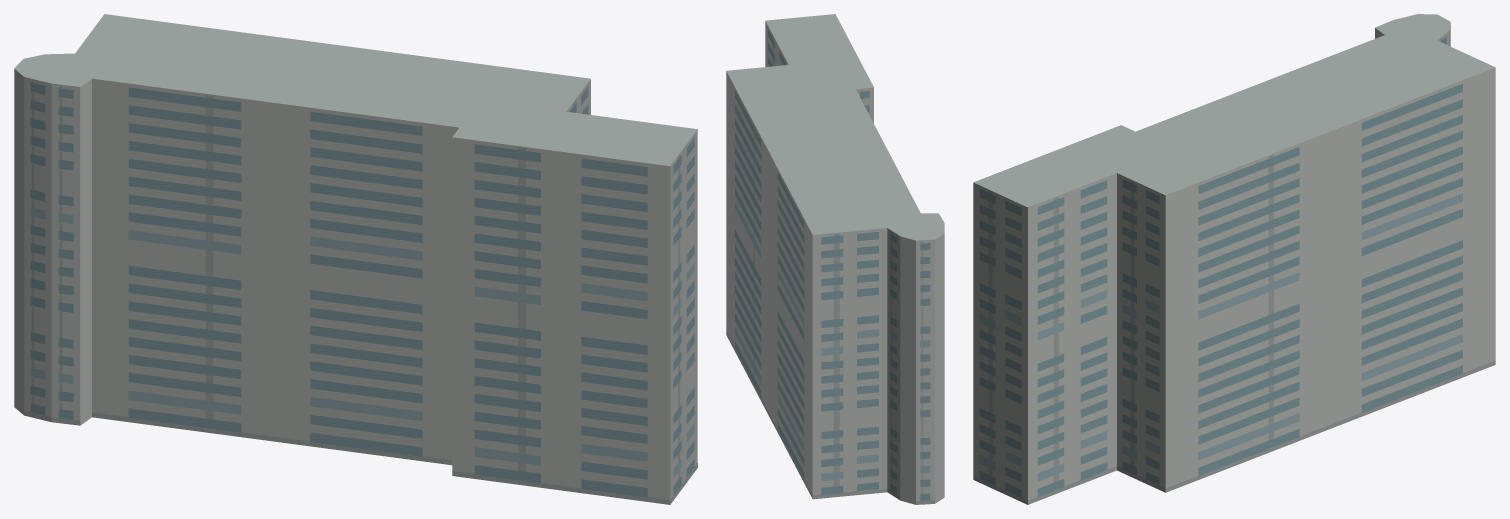
Rendered from residential-cd6b932a-ac6c-4abd-98c3-03f4b3722c66.glb.
3 views of the same model, side by side, from view 1: azimuth 30°, elevation 25°; view 2: azimuth 150°, elevation 25°; view 3: azimuth 270°, elevation 25° (orthographic). The views are drawn at different scales.
Visible parts, largest first — view 1: residential-cd6b932a-ac6c-4abd-98c3-03f4b3722c66.tmp; view 2: residential-cd6b932a-ac6c-4abd-98c3-03f4b3722c66.tmp; view 3: residential-cd6b932a-ac6c-4abd-98c3-03f4b3722c66.tmp.
Boxes of the visible parts, x1,y1,x2,y2 form: residential-cd6b932a-ac6c-4abd-98c3-03f4b3722c66.tmp: (14,14,697,504); residential-cd6b932a-ac6c-4abd-98c3-03f4b3722c66.tmp: (726,14,944,504); residential-cd6b932a-ac6c-4abd-98c3-03f4b3722c66.tmp: (973,14,1495,504).
Bounding box in the file's own units: 76.75 × 55 × 87.56.
